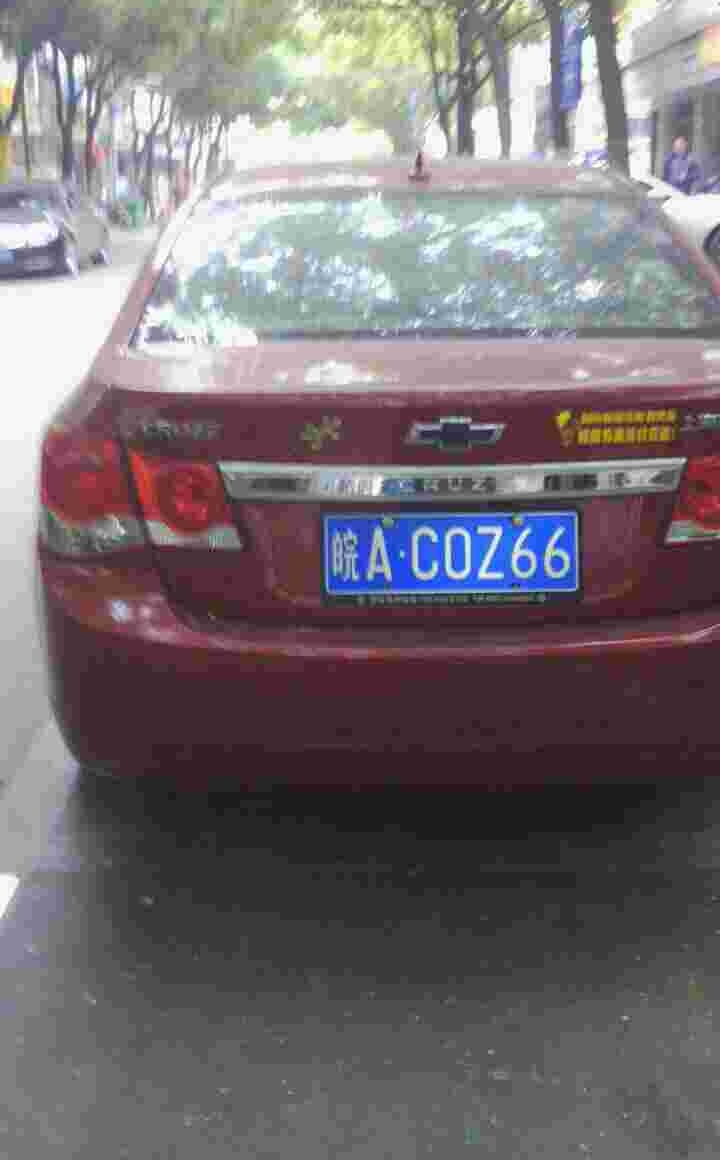plate: (325, 508, 586, 598)
